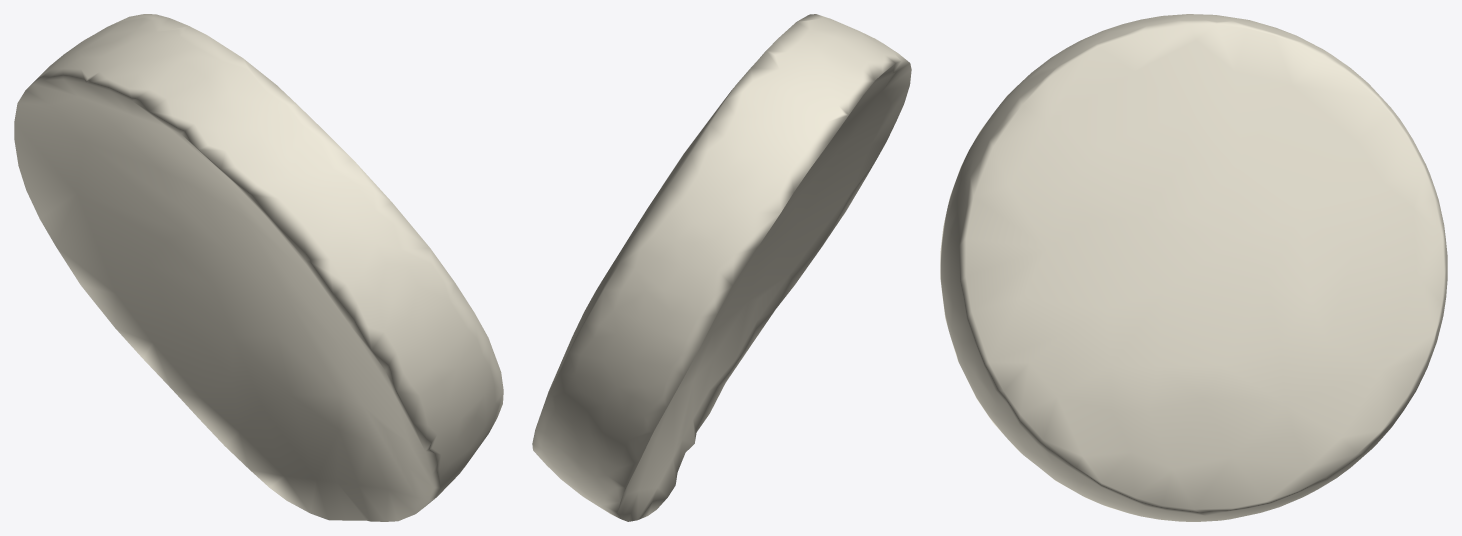
Rendered from fma57082_mm963.glb.
3 views of the same model, side by side, from view 1: azimuth 30°, elevation 25°; view 2: azimuth 150°, elevation 25°; view 3: azimuth 270°, elevation 25° (orthographic). The views are drawn at different scales.
Parts seen in each view (by area): view 1: FMA57082_MM963; view 2: FMA57082_MM963; view 3: FMA57082_MM963.
Part boxes in pixels (x1,y1,x2,y2): FMA57082_MM963: (14, 14, 503, 521); FMA57082_MM963: (532, 14, 911, 521); FMA57082_MM963: (940, 14, 1447, 521).
Bounding box in the file's own units: 0.0145 × 0.0225 × 0.0231.
